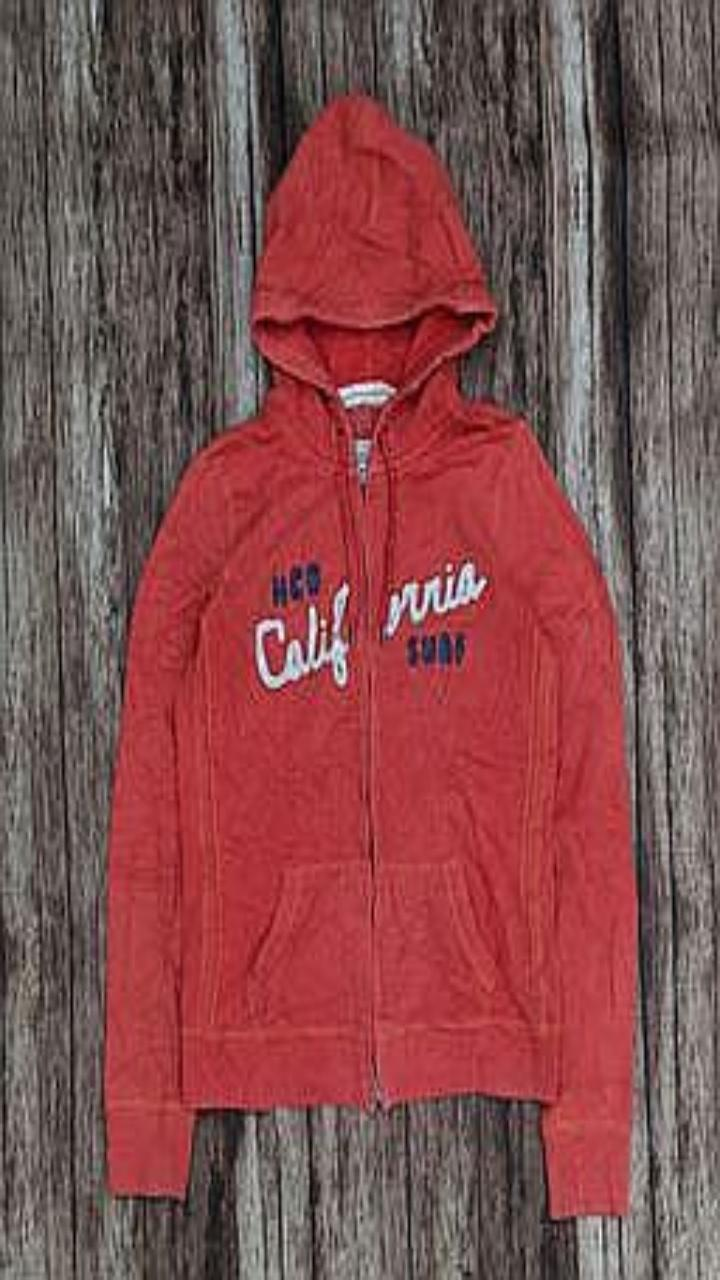Hoodie: (104, 94, 636, 1217)
